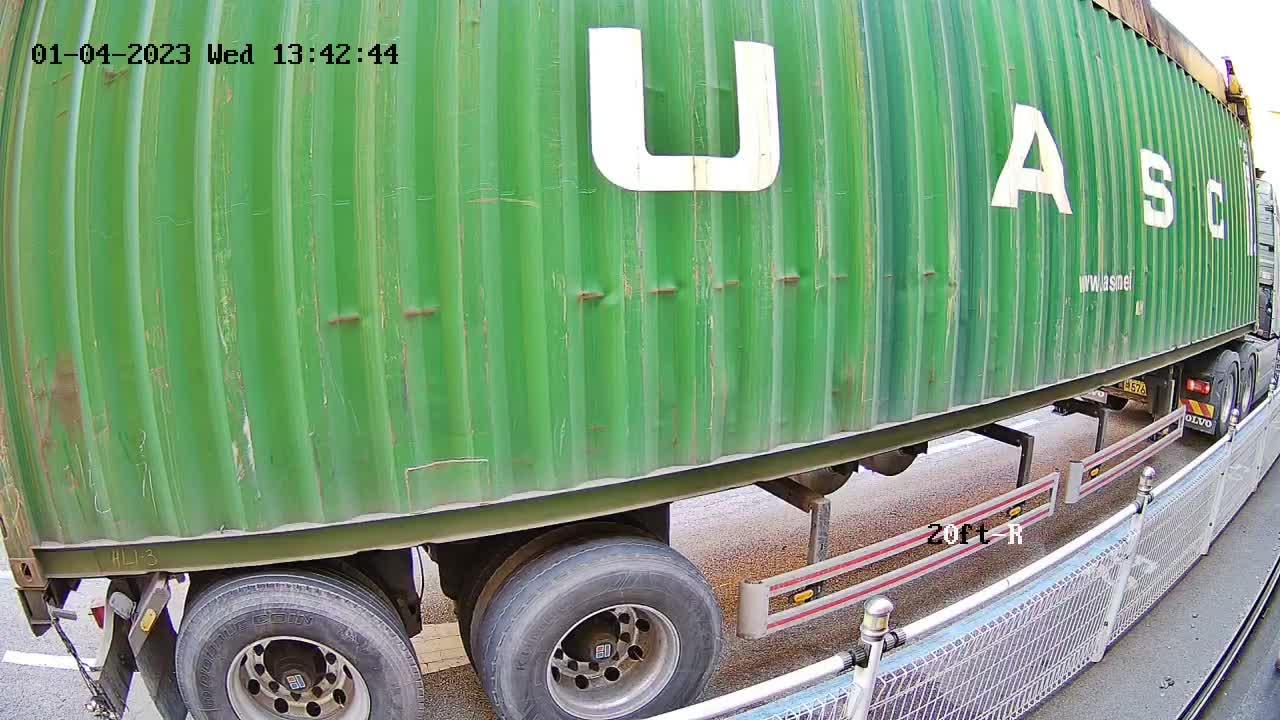Cone: (20, 588, 57, 629)
Hole_L: (0, 526, 79, 588)
Tire: (498, 554, 723, 717), (177, 585, 418, 717)
